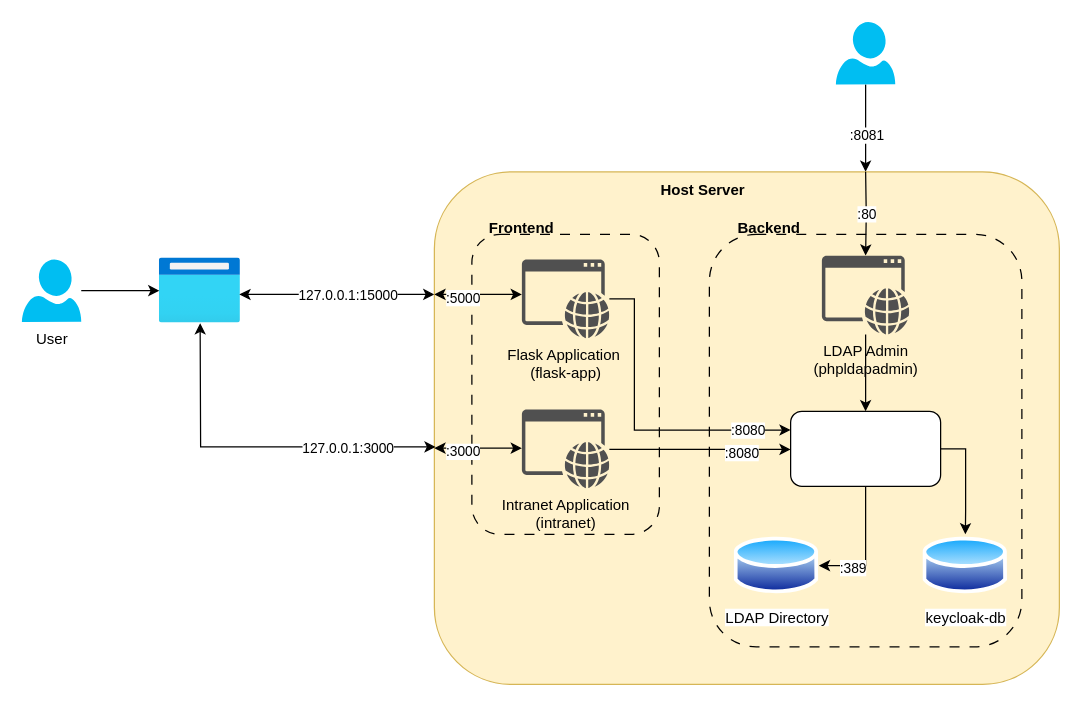
This 1081x706 diagram has some shape labels left out. Each missing label, with the box of its shape:
Browser: (159, 258, 240, 322)
Keycloak Identity Provider (IAM): (789, 410, 941, 486)
LDAP Admin: (835, 21, 895, 84)
